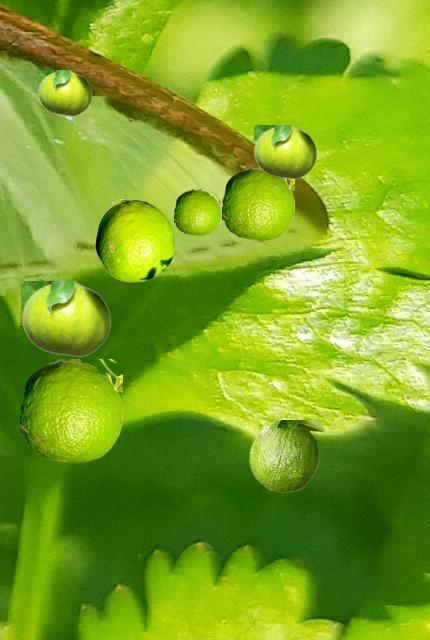dalandan: (20, 359, 121, 461), (22, 281, 110, 356), (95, 199, 174, 281), (249, 420, 324, 491), (222, 167, 293, 239), (254, 125, 316, 178), (38, 70, 91, 115), (174, 189, 219, 234)
